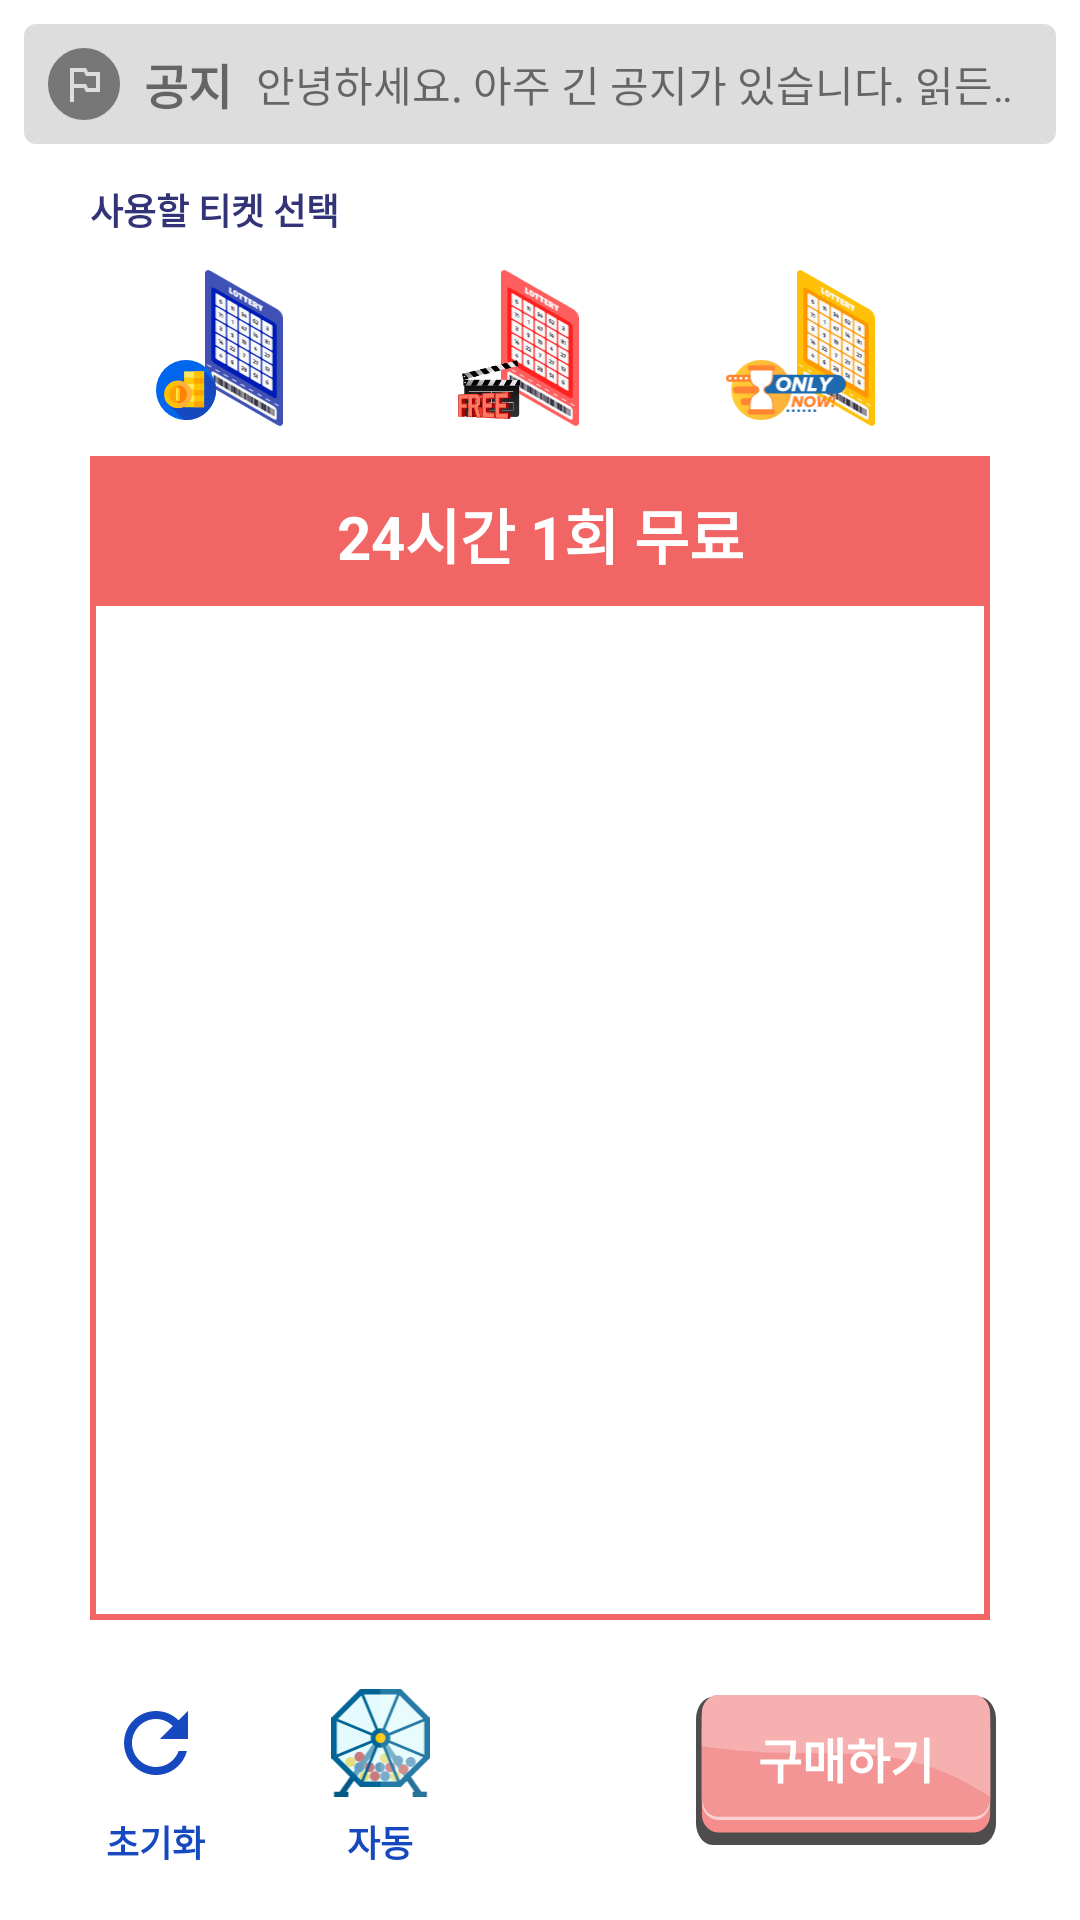

Icons on this 1080×1920 Android screen, each with the point to tap as (x=x, y=y):
flag: (x=84, y=84)
refresh: (x=156, y=1743)
